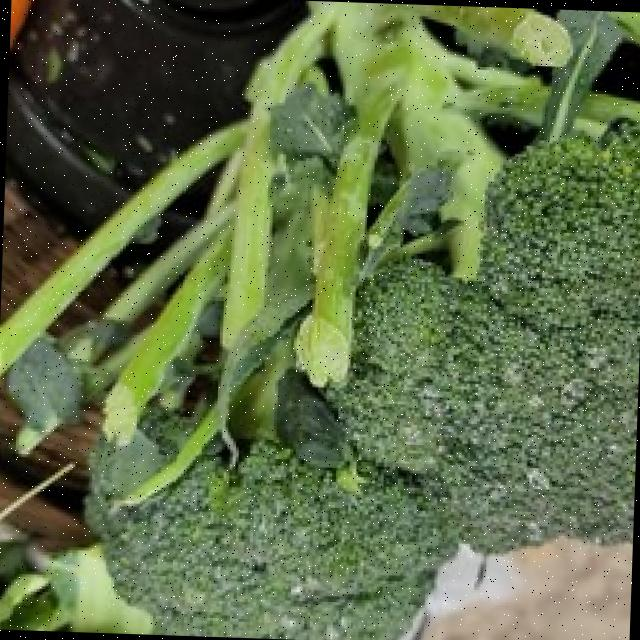Broccoli: (88, 123, 640, 640), (93, 123, 640, 640)
